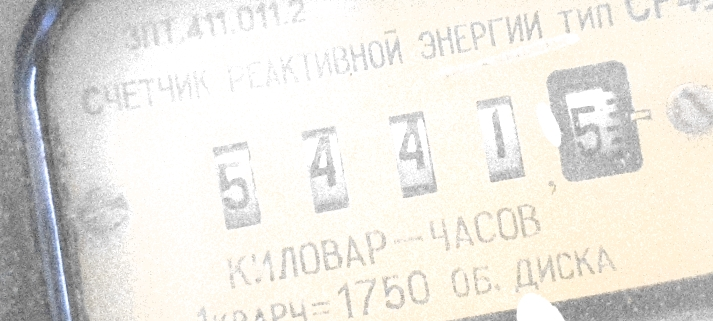1: (482, 103, 513, 164)
4: (387, 111, 433, 181), (301, 128, 344, 194)
5: (211, 154, 257, 216), (566, 97, 609, 163)
screen: (180, 33, 672, 261)
